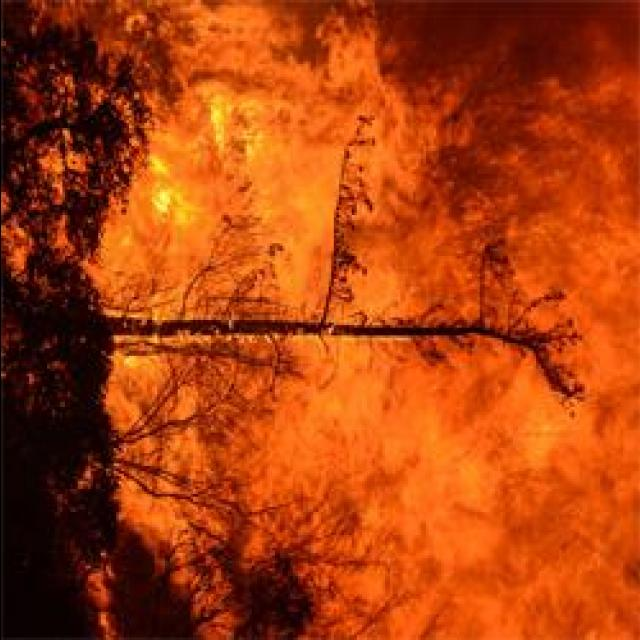fire: (80, 566, 124, 640), (109, 336, 160, 372)
